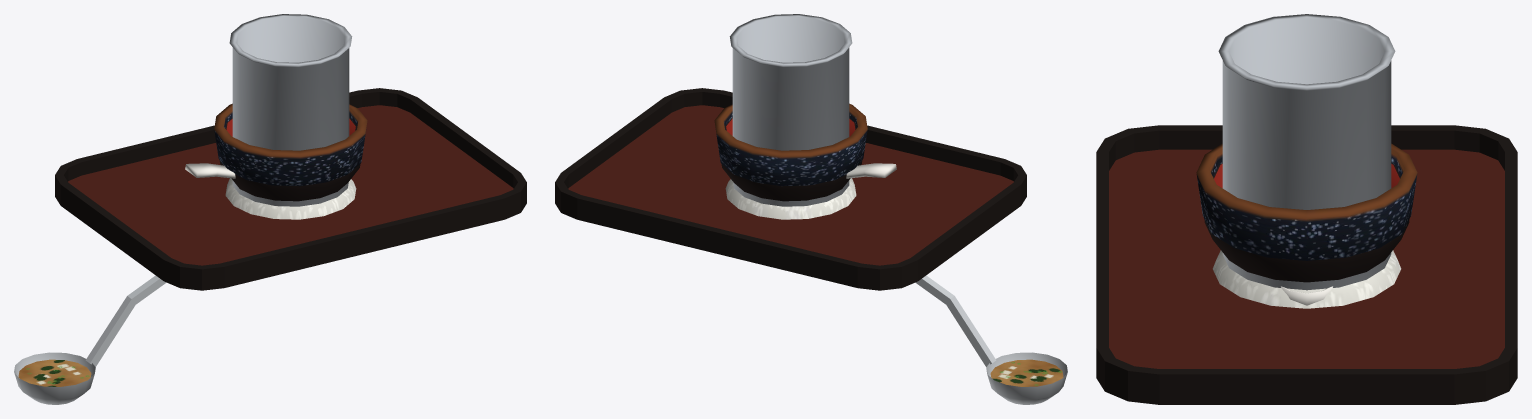
File: sidebowls.glb
The picture shows the model from 3 angles, left to right: view 1: azimuth 30°, elevation 25°; view 2: azimuth 150°, elevation 25°; view 3: azimuth 270°, elevation 25°; orthographic projection. The views are drawn at different scales.
Visible parts, largest first — view 1: Bon, SoakPot, ChawanBody, Otama, ChawanRice, WanBody, OtamaSoup, Renge; view 2: Bon, SoakPot, ChawanBody, Otama, ChawanRice, WanBody, OtamaSoup, Renge; view 3: Bon, SoakPot, ChawanBody, WanBody, ChawanRice, Renge.
Boxes of the visible parts, x1=… form: Bon: x1=55, y1=88, x2=526, y2=290; SoakPot: x1=229, y1=14, x2=352, y2=206; ChawanBody: x1=214, y1=103, x2=367, y2=186; Otama: x1=14, y1=275, x2=166, y2=404; ChawanRice: x1=225, y1=178, x2=356, y2=219; WanBody: x1=219, y1=117, x2=360, y2=201; OtamaSoup: x1=18, y1=359, x2=91, y2=386; Renge: x1=185, y1=163, x2=235, y2=178; Bon: x1=555, y1=88, x2=1026, y2=290; SoakPot: x1=729, y1=14, x2=852, y2=206; ChawanBody: x1=714, y1=103, x2=867, y2=186; Otama: x1=915, y1=275, x2=1067, y2=404; ChawanRice: x1=725, y1=178, x2=856, y2=219; WanBody: x1=721, y1=117, x2=862, y2=201; OtamaSoup: x1=990, y1=359, x2=1063, y2=386; Renge: x1=846, y1=163, x2=896, y2=178; Bon: x1=1096, y1=125, x2=1517, y2=404; SoakPot: x1=1218, y1=14, x2=1395, y2=290; ChawanBody: x1=1196, y1=143, x2=1417, y2=260; WanBody: x1=1204, y1=163, x2=1409, y2=282; ChawanRice: x1=1212, y1=250, x2=1401, y2=308; Renge: x1=1281, y1=286, x2=1332, y2=305.
Bounding box in the file's own units: 0.353 × 0.226 × 0.2.
11 materials, 4 textured.
